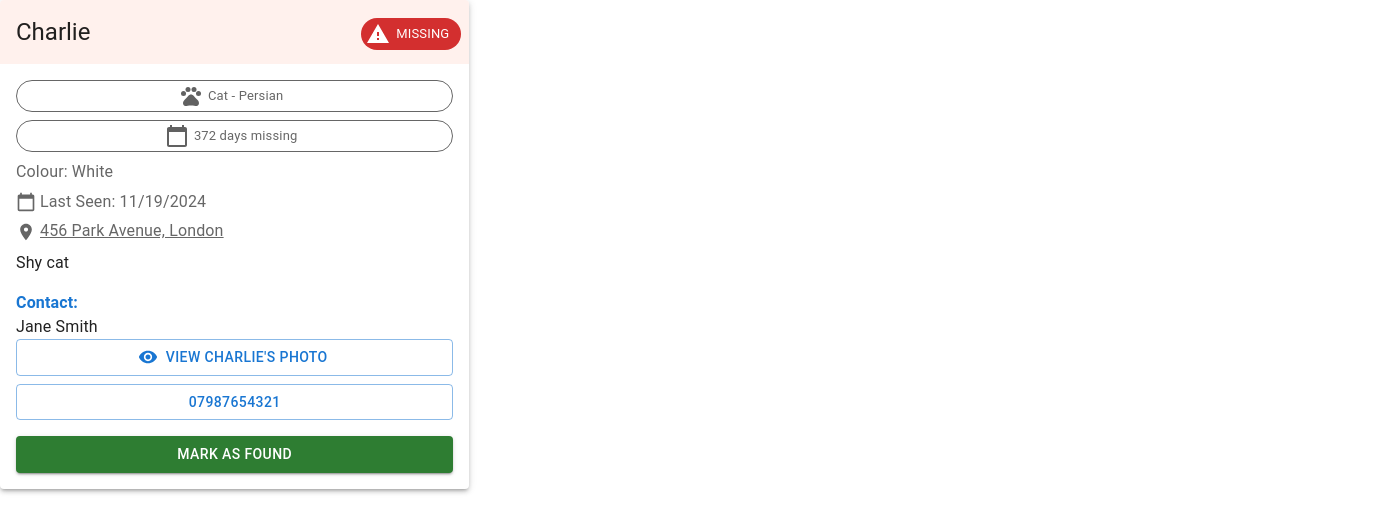
Test: PetList › Mark as Found Functionality › should display correct pet name in snackbar
The image size is (1385, 511).
Click the button "Mark as Found".
click(235, 454)  # box [16, 436, 453, 473]
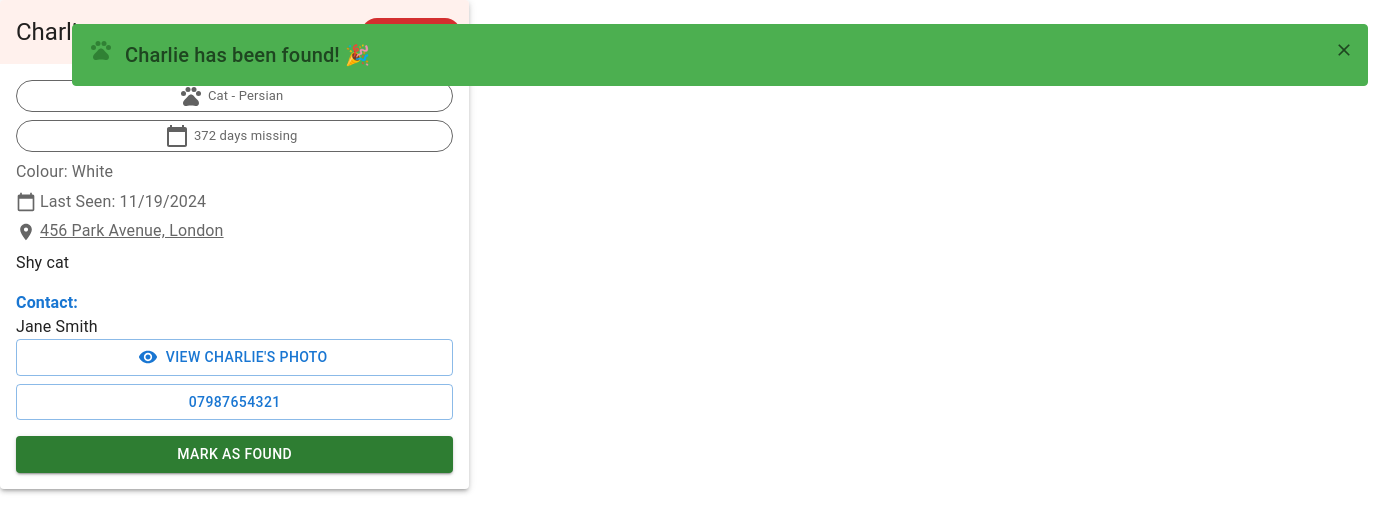
Check: the heading "Charlie has been found! 🎉" is shown, box [125, 39, 370, 71]
